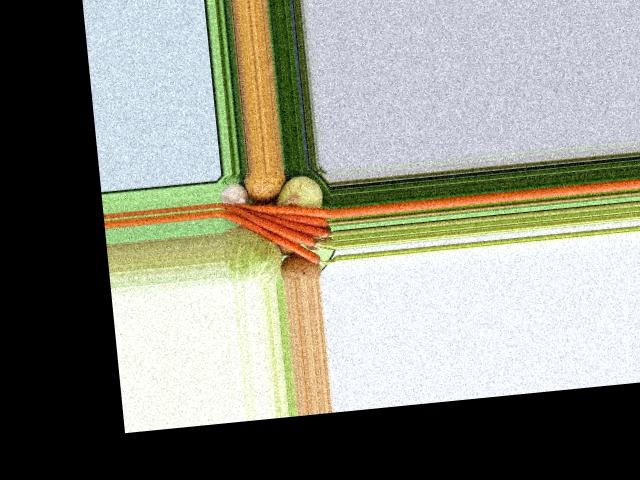carrot: (223, 191, 332, 228)
